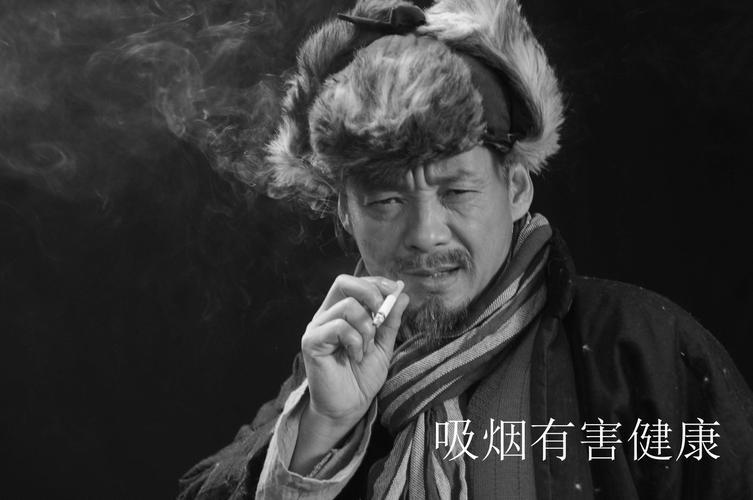smoke: (372, 280, 406, 329)
